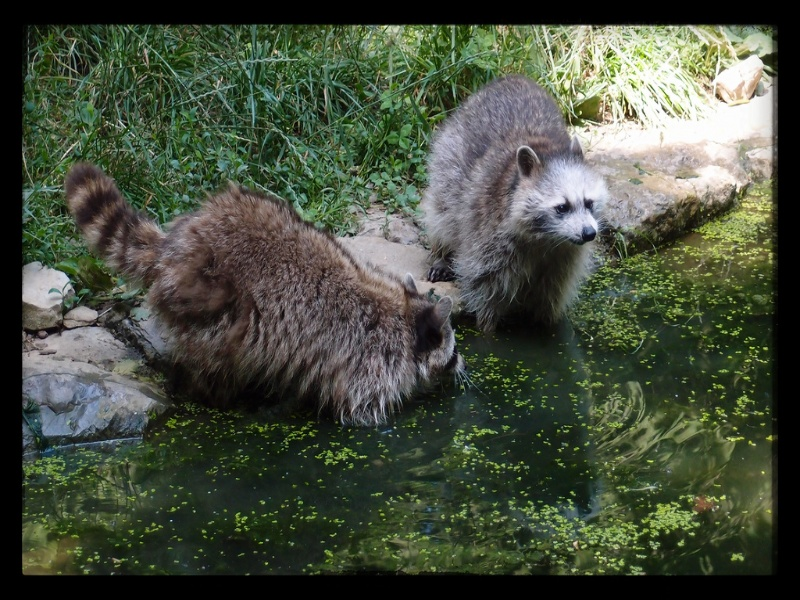raccoon: (67, 159, 476, 433), (413, 76, 616, 338)
